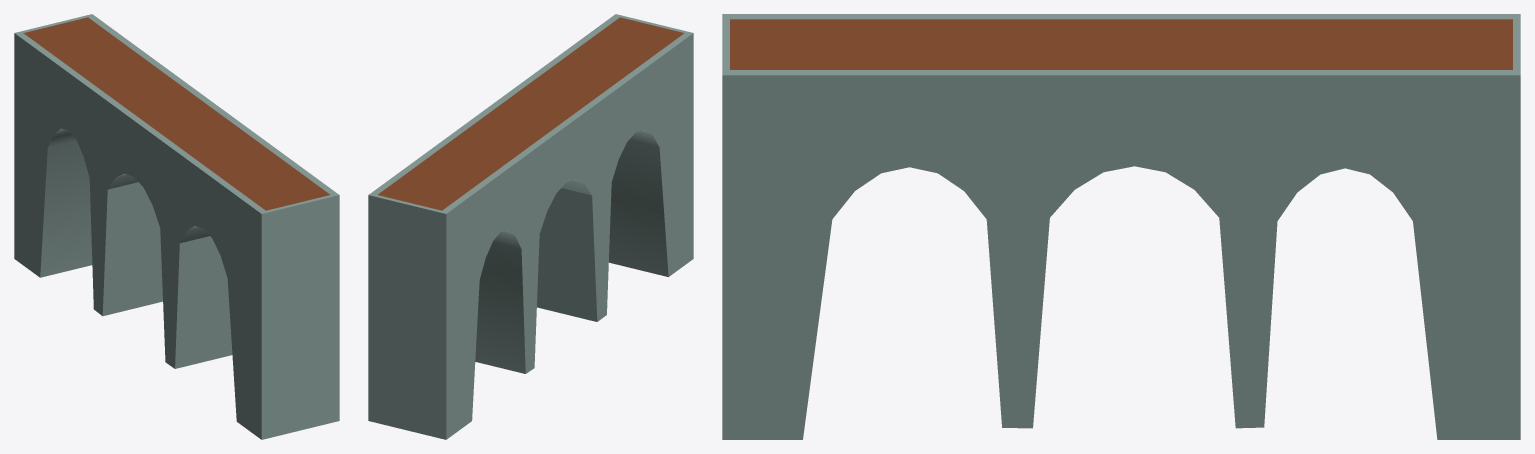
The model's file is Bridge 2.fbx.
3 views of the same model, side by side, from view 1: azimuth 30°, elevation 25°; view 2: azimuth 150°, elevation 25°; view 3: azimuth 270°, elevation 25° (orthographic). The views are drawn at different scales.
Visible parts, largest first — view 1: Cube; view 2: Cube; view 3: Cube.
Part boxes in pixels (<box>): Cube: <box>14,14,339,439</box>; Cube: <box>368,14,693,439</box>; Cube: <box>722,14,1520,439</box>.
Bounding box in the file's own units: 40.62 × 113 × 223.
